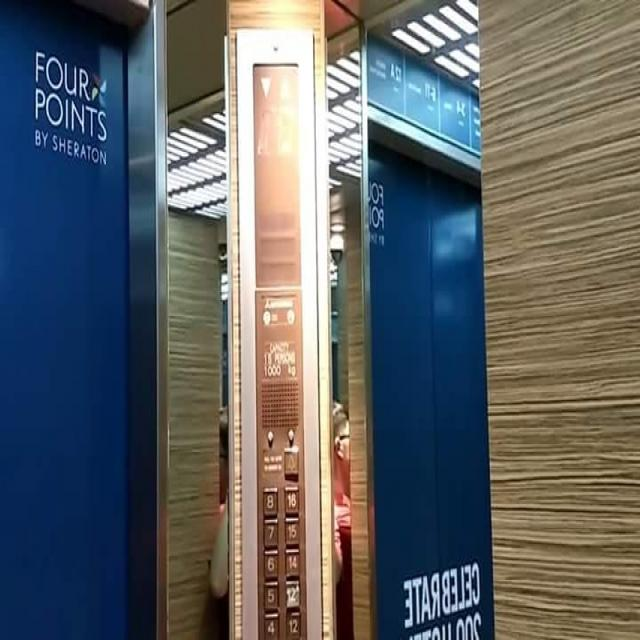12: (285, 607, 300, 637)
14: (284, 548, 300, 577)
15: (283, 514, 299, 546)
16: (282, 485, 298, 515)
4: (262, 610, 280, 638)
5: (263, 578, 279, 610)
6: (262, 546, 278, 578)
7: (262, 516, 278, 547)
8: (261, 485, 278, 516)
alarm: (283, 447, 298, 476)
blur: (284, 579, 300, 605)
led: (251, 60, 301, 216)
